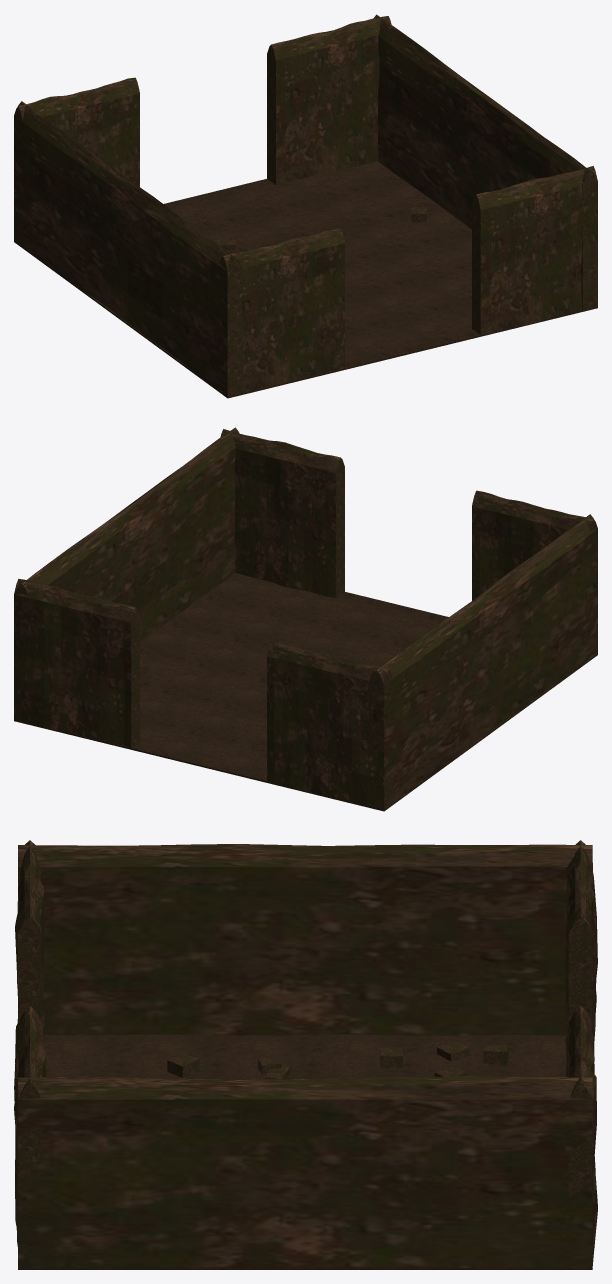
Rendered from dungeon_room_12_dirt.glb.
The picture shows the model from 3 angles, top to bottom: view 1: azimuth 30°, elevation 25°; view 2: azimuth 150°, elevation 25°; view 3: azimuth 270°, elevation 25°; orthographic projection. The views are drawn at different scales.
Parts seen in each view (by area): view 1: dungeon_room_12_dirt; view 2: dungeon_room_12_dirt; view 3: dungeon_room_12_dirt.
Part boxes in pixels (bbox=[...]): dungeon_room_12_dirt: bbox=[14, 14, 597, 398]; dungeon_room_12_dirt: bbox=[14, 427, 597, 811]; dungeon_room_12_dirt: bbox=[14, 840, 597, 1269].
Bounding box in the file's own units: 12.14 × 4.36 × 12.2.
Materials: 2 (2 with a texture image).
